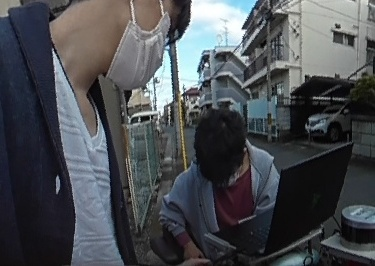person: (166, 103, 275, 266)
